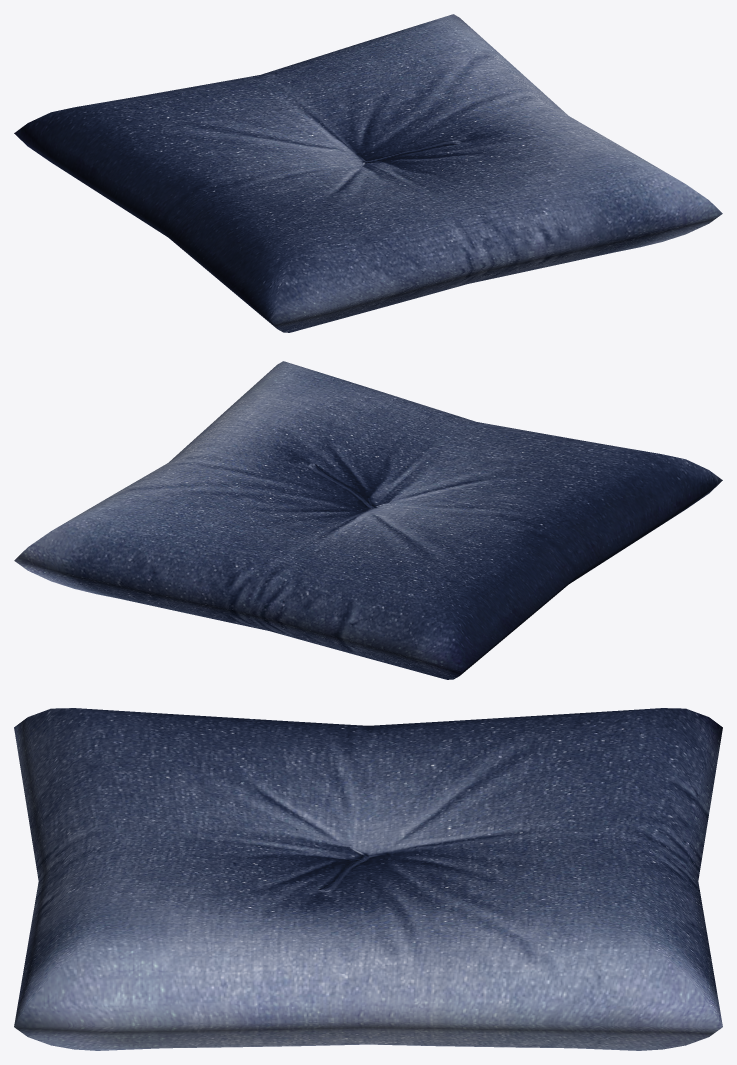
Rendered from zabuton.fbx.
The picture shows the model from 3 angles, top to bottom: view 1: azimuth 30°, elevation 25°; view 2: azimuth 150°, elevation 25°; view 3: azimuth 270°, elevation 25°; orthographic projection. The views are drawn at different scales.
Parts seen in each view (by area): view 1: 立方体.005; view 2: 立方体.005; view 3: 立方体.005.
Part boxes in pixels (<box>): 立方体.005: <box>14,14,722,332</box>; 立方体.005: <box>14,361,722,679</box>; 立方体.005: <box>14,708,722,1050</box>.
Bounding box in the file's own units: 58.46 × 10.12 × 58.46.
